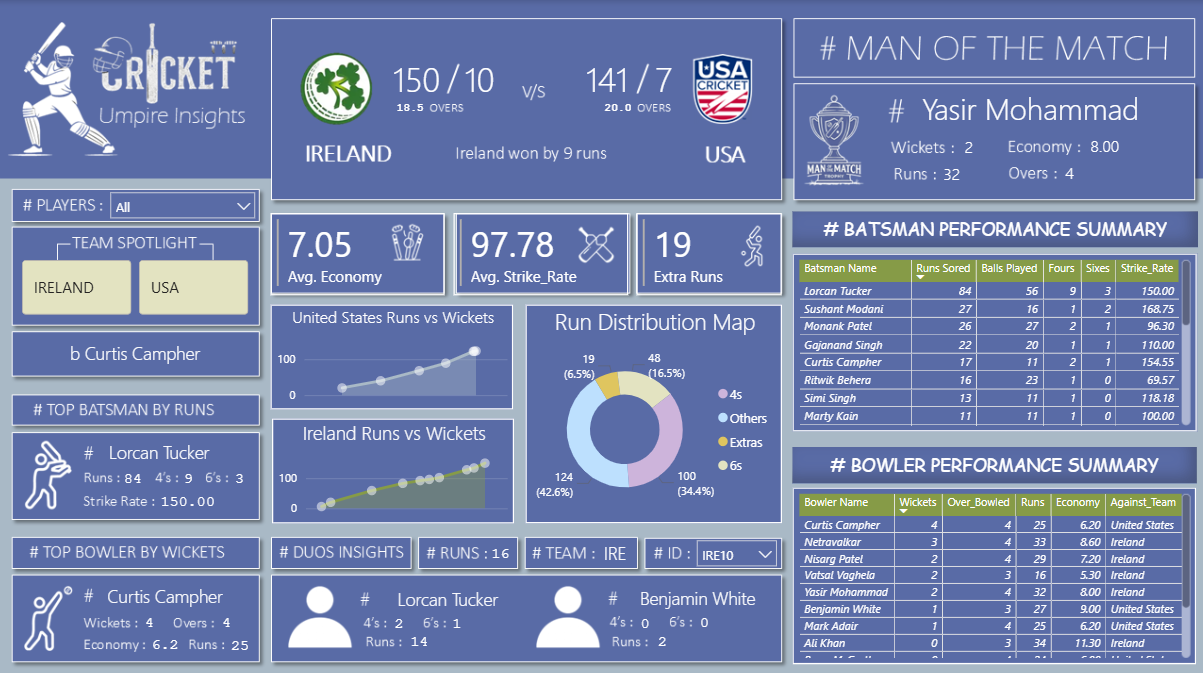

The page's visual inventory and layout, read from the dashboard file:
{"tool":"powerbi","page":{"name":"Page 1","canvas":[1280,720],"ordinal":0},"visuals":[{"type":"card","fields":{"Values":["Sum(Team_Data.Score)"]},"box":[382.5,53.8,121.2,58.8],"z":0},{"type":"card","fields":{"Values":["Sum(Team_Data.Wickets)"]},"box":[643.8,53.8,121.2,58.8],"z":1000},{"type":"card","fields":{"Values":["Sum(Team_Data.Score)"]},"box":[583.8,53.8,121.2,58.8],"z":2000},{"type":"card","fields":{"Values":["Sum(Team_Data.Overs)"]},"box":[412,101.8,47.7,25.4],"z":3000},{"type":"card","fields":{"Values":["Sum(Team_Data.Wickets)"]},"box":[448.8,53.8,121.2,58.8],"z":4000},{"type":"card","fields":{"Values":["Sum(Team_Data.Overs)"]},"box":[633.1,101.8,46.1,25.4],"z":5000},{"type":"stackedAreaChart","title":"Ireland Runs vs Wickets","fields":{"Y":["Sum(Fow_Data.runs)"],"Category":["Fow_Data.overnbr"]},"box":[288.8,444.1,256.5,111.2],"z":6000},{"type":"tableEx","fields":{"Values":["Batting_Data.Batsman","Sum(Batting_Data.Runs)","Sum(Batting_Data.Balls)","Sum(Batting_Data.Fours)","Sum(Batting_Data.Sixes)","Sum(Batting_Data.Strike_Rate)"]},"box":[841.7,268.3,428.3,188.3],"z":7000},{"type":"multiRowCard","fields":{"Values":["Avg(Bowler_Data.Economy)"]},"box":[287.9,225.9,184.5,87.5],"z":8000},{"type":"card","fields":{"Values":["Batting_Data.Top Batsman"]},"box":[46.1,448.6,246.5,65.2],"z":9000},{"type":"tableEx","title":"Bowler Data","fields":{"Values":["Bowler_Data.Bowler","Sum(Bowler_Data.Wickets)","Sum(Bowler_Data.Over)","Sum(Bowler_Data.Runs)","Sum(Bowler_Data.Economy)","Bowler_Data.against_team"]},"box":[841.8,517.3,428.2,187.3],"z":10000},{"type":"textbox","box":[841.7,473.3,428.3,38.3],"z":11000},{"type":"textbox","box":[841,225,430,38],"z":12000},{"type":"card","fields":{"Values":["Batting_Data.Top_Bat_Runs"]},"box":[109.8,488.3,63.6,39.8],"z":13000},{"type":"card","fields":{"Values":["Batting_Data.tOP_bAT 4"]},"box":[160.7,485.1,79.5,44.5],"z":14000},{"type":"card","fields":{"Values":["Batting_Data.TOP_BAT_6"]},"box":[224.3,488.3,60.4,38.2],"z":15000},{"type":"card","fields":{"Values":["Batting_Data.TOP_BAT_strk"]},"box":[154.3,510.6,90.7,42.9],"z":16000},{"type":"card","fields":{"Values":["Bowler_Data.Top Bowler"]},"box":[85.9,610.8,179.7,46.1],"z":17000},{"type":"card","fields":{"Values":["Bowler_Data.Top_Wickets"]},"box":[135.2,642.6,47.7,36.6],"z":18000},{"type":"card","fields":{"Values":["Bowler_Data.Top_Runs"]},"box":[203.6,664.9,103.4,39.8],"z":19000},{"type":"card","fields":{"Values":["Bowler_Data.Top_Overs"]},"box":[208.4,631.5,65.2,58.9],"z":20000},{"type":"card","fields":{"Values":["Bowler_Data.Top_Economy"]},"box":[138.4,660.1,74.8,47.7],"z":21000},{"type":"donutChart","title":"Run Distribution Map","fields":{"Y":["Batting_Data.4s","Batting_Data.Others","Batting_Data.Extras","Batting_Data.6s"]},"box":[558.3,322.9,272,232.2],"z":22000},{"type":"stackedAreaChart","title":"United States Runs vs Wickets","fields":{"Y":["Sum(Fow_Data.runs)"],"Category":["Fow_Data.overnbr"]},"box":[287.5,323.1,257.5,111.2],"z":23000},{"type":"card","fields":{"Values":["Min(Partnership_Data.bat1name)"]},"box":[400.8,609.2,149.5,55.7],"z":24000},{"type":"card","fields":{"Values":["Min(Partnership_Data.bat2name)"]},"box":[655.3,617.2,170.2,36.6],"z":25000},{"type":"slicer","fields":{"Values":["Partnership_Data.Partnership_ID"]},"box":[730.8,563.1,104.6,41.5],"z":26000},{"type":"card","fields":{"Values":["Min(Partnership_Data.Team_Code)"]},"box":[623.8,563.8,58.8,50],"z":27000},{"type":"advancedSlicerVisual","fields":{"Values":["Team_Data.Team_Code"]},"box":[19.1,270.4,251.3,68.4],"z":28000},{"type":"multiRowCard","fields":{"Values":["Avg(Batting_Data.Strike_Rate)"]},"box":[481.7,225.8,185,87.5],"z":29000},{"type":"card","fields":{"Values":["Sum(Partnership_Data.totalruns)"]},"box":[493.1,569.4,76.3,35],"z":30000},{"type":"card","fields":{"Values":["Sum(Partnership_Data.bat1runs)"]},"box":[405.6,653.7,79.5,54.1],"z":31000},{"type":"card","fields":{"Values":["Sum(Partnership_Data.bat1sixes)"]},"box":[447,634.7,76.3,54.1],"z":32000},{"type":"card","fields":{"Values":["Sum(Partnership_Data.bat1fours)"]},"box":[388.1,634.7,71.6,54.1],"z":33000},{"type":"card","fields":{"Values":["Sum(Partnership_Data.bat2runs)"]},"box":[663.3,653.7,79.5,54.1],"z":34000},{"type":"card","fields":{"Values":["Sum(Partnership_Data.bat2sixes)"]},"box":[709.4,633.1,76.3,54.1],"z":35000},{"type":"card","fields":{"Values":["Sum(Partnership_Data.bat2fours)"]},"box":[649,634.7,71.6,54.1],"z":36000},{"type":"slicer","fields":{"Values":["Batting_Data.Batsman"]},"box":[108.2,194.1,173.4,49.3],"z":37000},{"type":"card","fields":{"Values":["Team_Data.Man of the Match"]},"box":[935.3,84.3,316.5,60.4],"z":38000},{"type":"card","fields":{"Values":["Team_Data.MOM_Economy"]},"box":[1129.3,141.6,85.9,30.2],"z":39000},{"type":"card","fields":{"Values":["Team_Data.MOM_Wickets"]},"box":[1000.5,135.2,55.7,44.5],"z":40000},{"type":"card","fields":{"Values":["Team_Data.MOM_Runs"]},"box":[979.8,162.2,60.4,47.7],"z":41000},{"type":"card","fields":{"Values":["Team_Data.MOM_Over"]},"box":[1116.6,159.1,36.6,50.9],"z":42000},{"type":"card","fields":{"Values":["Min(Batting_Data.Dismissal)"]},"box":[0,354.7,287.9,42.9],"z":43000},{"type":"multiRowCard","fields":{"Values":["Sum(Team_Data.Total_Extras)"]},"box":[676,225.9,154.3,87.5],"z":44000}]}

Visuals, with their boxes in screenshot pixels (x1, y1, x2, y2), scaled from the page's 1280x720 canvas onto the 1203x673 screenshot:
card - Sum(Team_Data.Score): 359/50/473/105
card - Sum(Team_Data.Wickets): 605/50/719/105
card - Sum(Team_Data.Score): 549/50/663/105
card - Sum(Team_Data.Overs): 387/95/432/119
card - Sum(Team_Data.Wickets): 422/50/536/105
card - Sum(Team_Data.Overs): 595/95/638/119
"Ireland Runs vs Wickets" stackedAreaChart: 271/415/512/519
tableEx - Batting_Data.Batsman x Sum(Batting_Data.Runs): 791/251/1194/427
multiRowCard - Avg(Bowler_Data.Economy): 271/211/444/293
card - Batting_Data.Top Batsman: 43/419/275/480
"Bowler Data" tableEx: 791/484/1194/659
textbox: 791/442/1194/478
textbox: 790/210/1195/246
card - Batting_Data.Top_Bat_Runs: 103/456/163/494
card - Batting_Data.tOP_bAT 4: 151/453/226/495
card - Batting_Data.TOP_BAT_6: 211/456/268/492
card - Batting_Data.TOP_BAT_strk: 145/477/230/517
card - Bowler_Data.Top Bowler: 81/571/250/614
card - Bowler_Data.Top_Wickets: 127/601/172/635
card - Bowler_Data.Top_Runs: 191/621/289/659
card - Bowler_Data.Top_Overs: 196/590/257/645
card - Bowler_Data.Top_Economy: 130/617/200/662
"Run Distribution Map" donutChart: 525/302/780/519
"United States Runs vs Wickets" stackedAreaChart: 270/302/512/406
card - Min(Partnership_Data.bat1name): 377/569/517/621
card - Min(Partnership_Data.bat2name): 616/577/776/611
slicer - Partnership_Data.Partnership_ID: 687/526/785/565
card - Min(Partnership_Data.Team_Code): 586/527/642/574
advancedSlicerVisual - Team_Data.Team_Code: 18/253/254/317
multiRowCard - Avg(Batting_Data.Strike_Rate): 453/211/627/293
card - Sum(Partnership_Data.totalruns): 463/532/535/565
card - Sum(Partnership_Data.bat1runs): 381/611/456/662
card - Sum(Partnership_Data.bat1sixes): 420/593/492/644
card - Sum(Partnership_Data.bat1fours): 365/593/432/644
card - Sum(Partnership_Data.bat2runs): 623/611/698/662
card - Sum(Partnership_Data.bat2sixes): 667/592/738/642
card - Sum(Partnership_Data.bat2fours): 610/593/677/644
slicer - Batting_Data.Batsman: 102/181/265/228
card - Team_Data.Man of the Match: 879/79/1176/135
card - Team_Data.MOM_Economy: 1061/132/1142/161
card - Team_Data.MOM_Wickets: 940/126/993/168
card - Team_Data.MOM_Runs: 921/152/978/196
card - Team_Data.MOM_Over: 1049/149/1084/196
card - Min(Batting_Data.Dismissal): 0/332/271/372
multiRowCard - Sum(Team_Data.Total_Extras): 635/211/780/293
